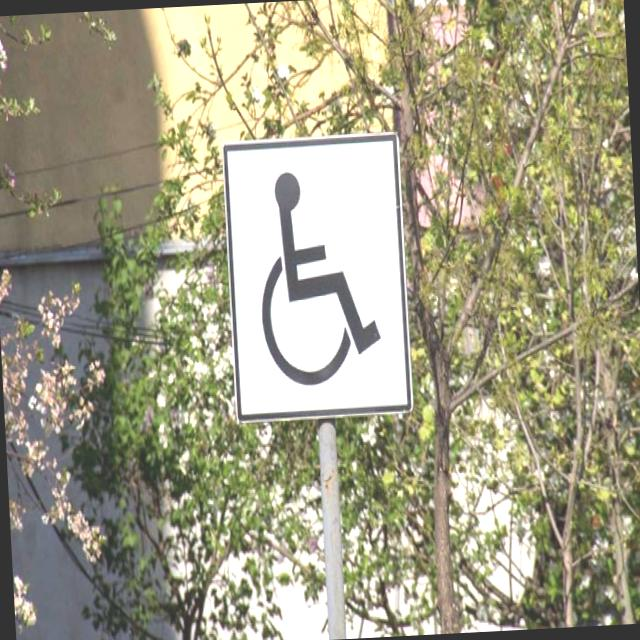symbol_of_access: (220, 130, 414, 423)
